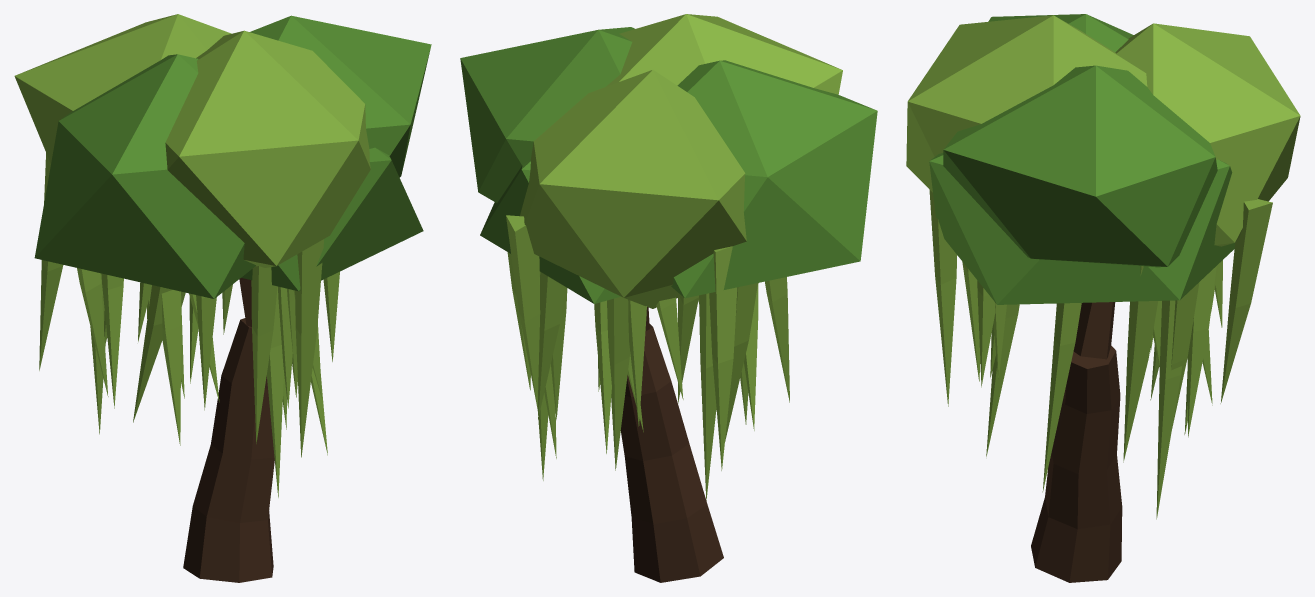
The model's file is Tree_Willow_C.glb.
The picture shows the model from 3 angles, left to right: view 1: azimuth 30°, elevation 25°; view 2: azimuth 150°, elevation 25°; view 3: azimuth 270°, elevation 25°; orthographic projection.
Parts seen in each view (by area): view 1: Tree_Willow_C; view 2: Tree_Willow_C; view 3: Tree_Willow_C.
Boxes of the visible parts, bbox=[...] form: Tree_Willow_C: bbox=[14, 14, 431, 582]; Tree_Willow_C: bbox=[460, 14, 877, 582]; Tree_Willow_C: bbox=[906, 14, 1300, 582].
Bounding box in the file's own units: 3.24 × 4.26 × 2.76.
